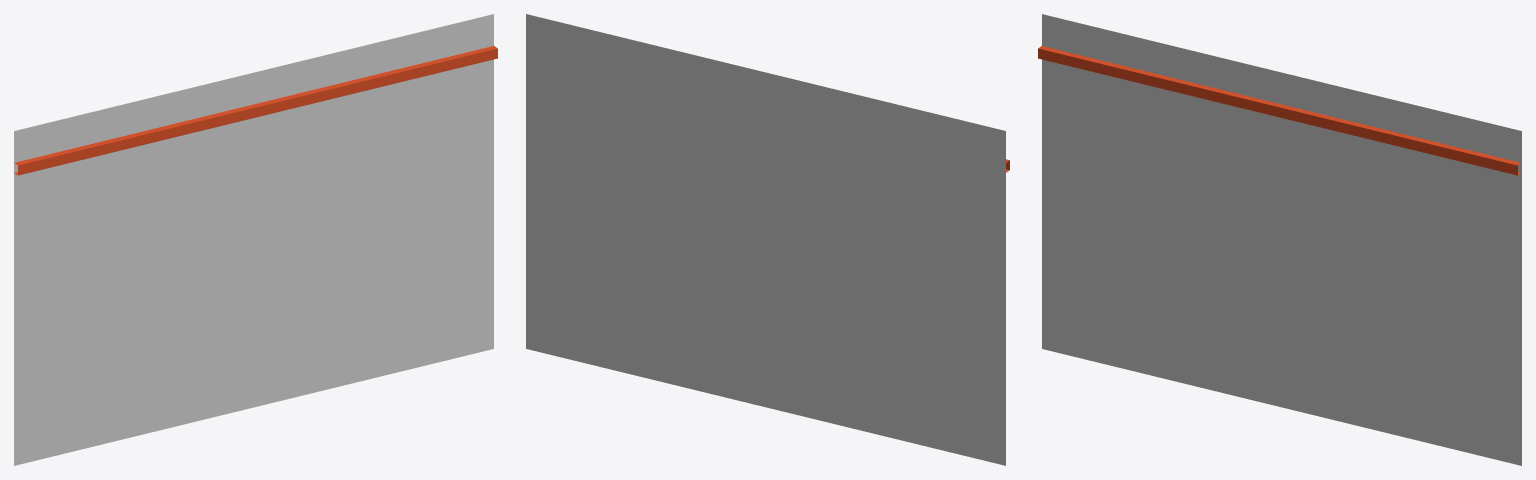
Rendered from mid-w2.fbx.
3 views of the same model, side by side, from view 1: azimuth 30°, elevation 25°; view 2: azimuth 150°, elevation 25°; view 3: azimuth 330°, elevation 25° (orthographic).
Visible parts, largest first — view 1: a2008/0/mid-w2; view 2: a2008/0/mid-w2; view 3: a2008/0/mid-w2.
Boxes of the visible parts, x1=… form: a2008/0/mid-w2: x1=14, y1=14, x2=497, y2=465; a2008/0/mid-w2: x1=526, y1=14, x2=1009, y2=465; a2008/0/mid-w2: x1=1038, y1=14, x2=1521, y2=465.
Size of the model in its own units: 6 by 4 by 0.08.
